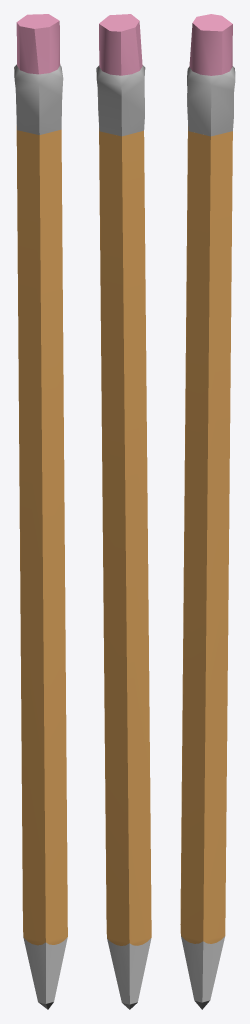
Rendered from SM_Pencil_4.fbx.
The picture shows the model from 3 angles, left to right: view 1: azimuth 90°, elevation 25°; view 2: azimuth 150°, elevation 25°; view 3: azimuth 330°, elevation 25°; orthographic projection.
Parts seen in each view (by area): view 1: SM_Pencil_4; view 2: SM_Pencil_4; view 3: SM_Pencil_4.
Part boxes in pixels (x1,y1,x2,y2): SM_Pencil_4: (14,14,67,1009); SM_Pencil_4: (96,14,151,1009); SM_Pencil_4: (180,14,235,1009).
Size of the model in its own units: 0.00939 by 0.1726 by 0.00853.
5 materials, 1 textured.
